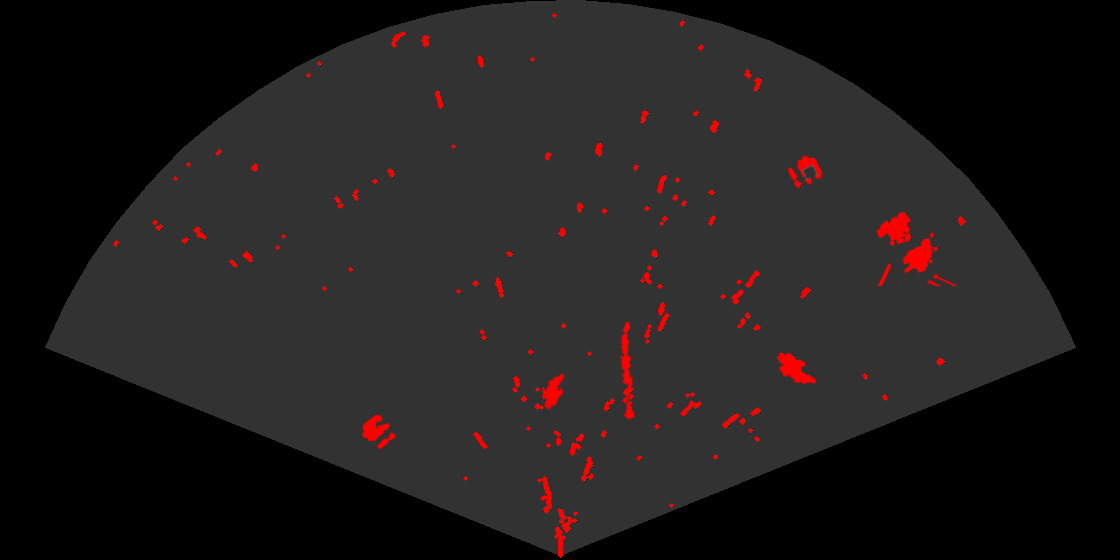AUV: (775, 351, 817, 386), (540, 372, 566, 411)
ball: (361, 413, 397, 451), (786, 154, 824, 190)
cage: (875, 210, 958, 286)
chain: (619, 320, 636, 422)
